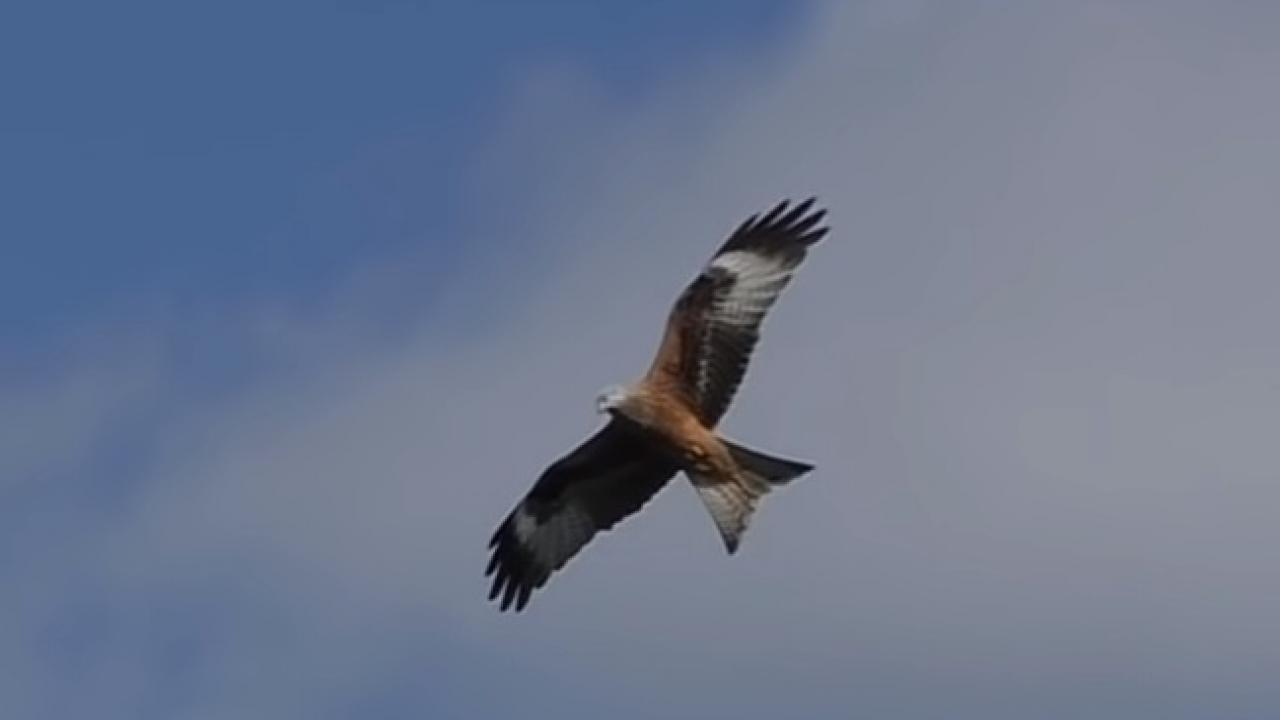Bird: (470, 191, 843, 621)
